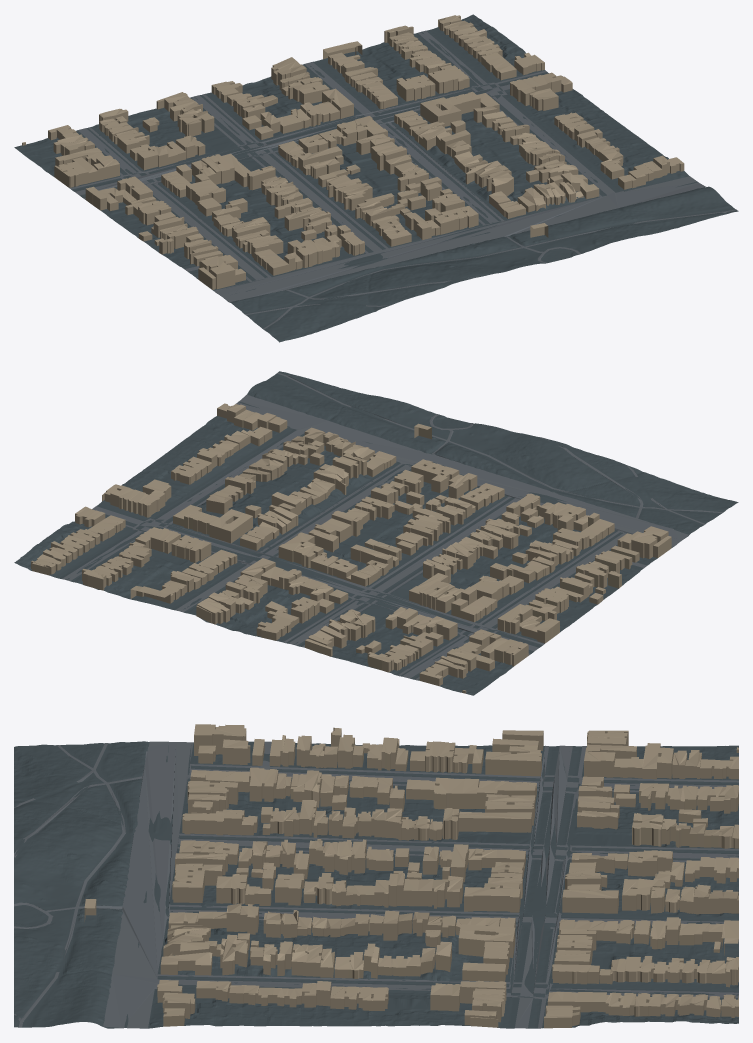
The model's file is epsg26910-1415-10884.lod0.glb.
The picture shows the model from 3 angles, top to bottom: view 1: azimuth 30°, elevation 25°; view 2: azimuth 150°, elevation 25°; view 3: azimuth 270°, elevation 25°; orthographic projection. The views are drawn at different scales.
Visible parts, largest first — view 1: epsg26910-1415-10884-lod0; view 2: epsg26910-1415-10884-lod0; view 3: epsg26910-1415-10884-lod0.
Part boxes in pixels (x1=…): epsg26910-1415-10884-lod0: x1=14, y1=14, x2=738, y2=342; epsg26910-1415-10884-lod0: x1=14, y1=371, x2=738, y2=695; epsg26910-1415-10884-lod0: x1=14, y1=724, x2=738, y2=1028.
Bounding box in the file's own units: 384 × 24.94 × 384.
